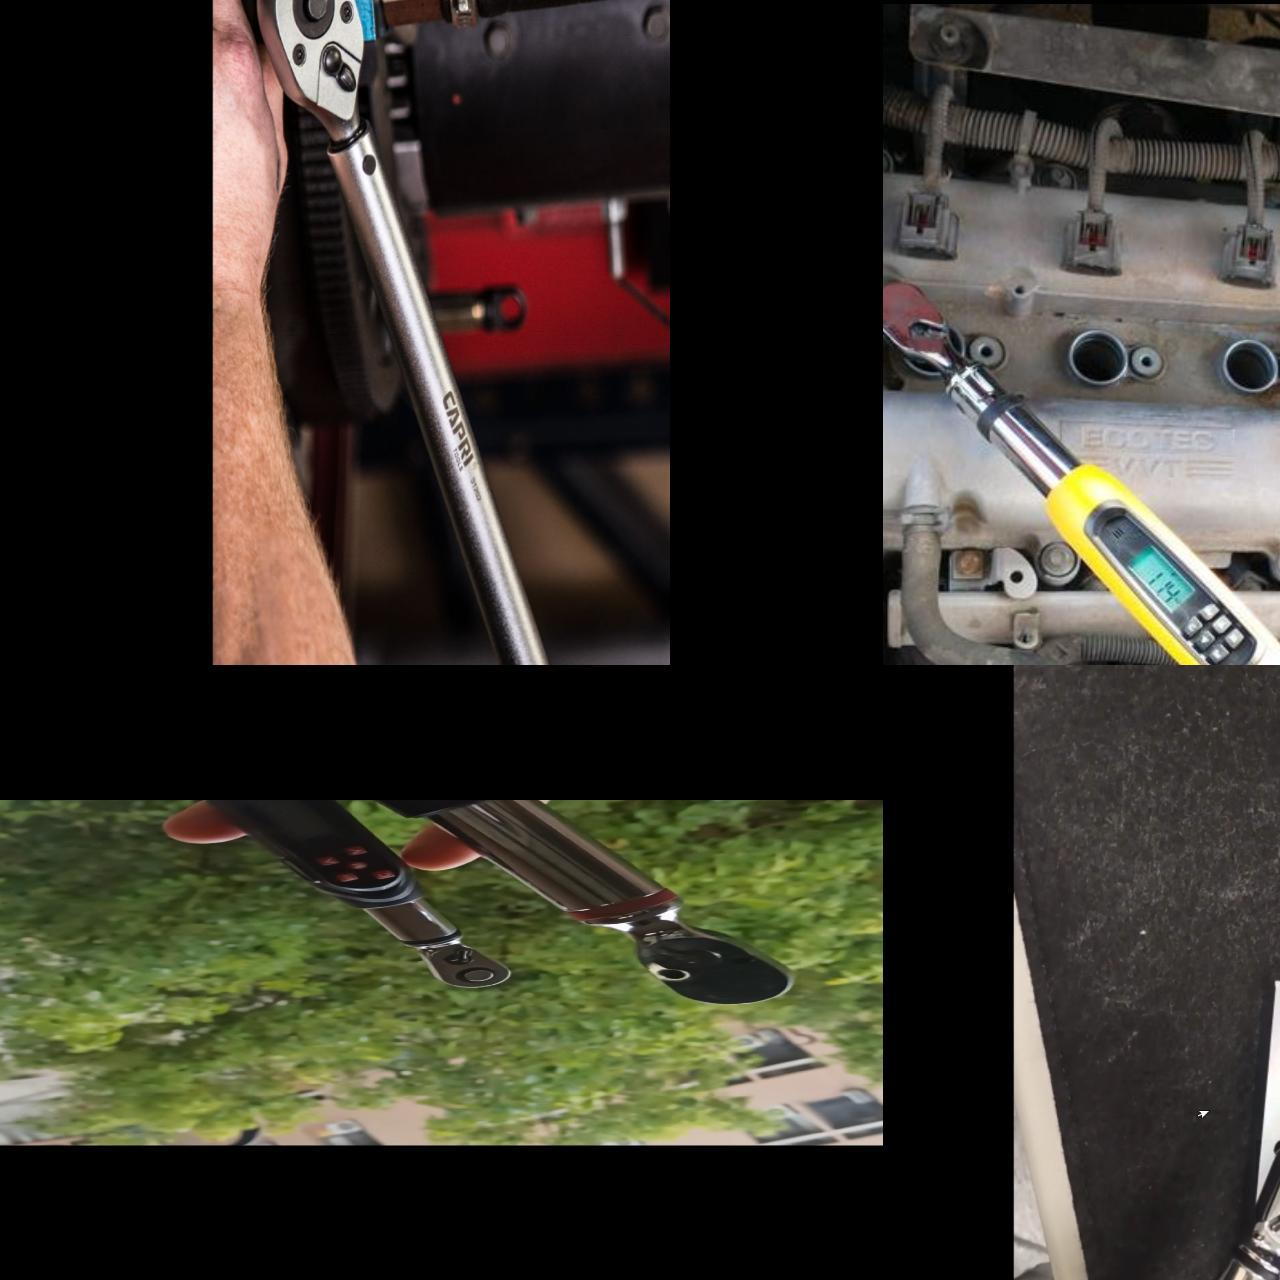Tool: (584, 913, 800, 1005), (252, 0, 365, 129), (883, 280, 966, 362), (409, 942, 513, 989), (1255, 1140, 1280, 1260)
